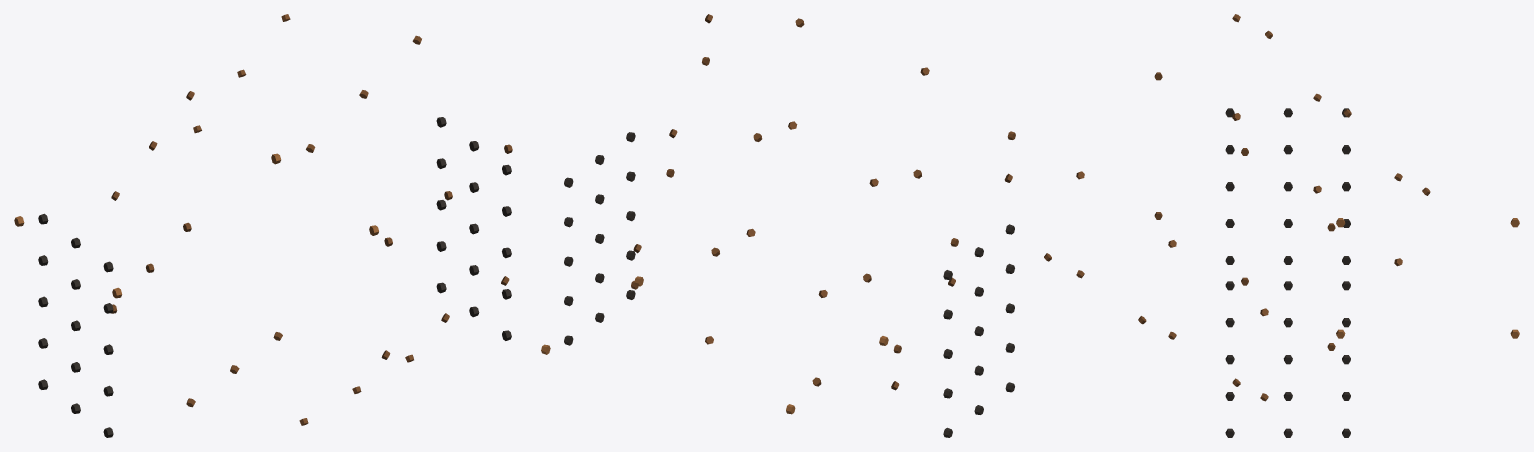
Rendered from cannon_detail1.glb.
The picture shows the model from 3 angles, left to right: view 1: azimuth 30°, elevation 25°; view 2: azimuth 150°, elevation 25°; view 3: azimuth 270°, elevation 25°; orthographic projection. The views are drawn at different scales.
Parts seen in each view (by area): view 1: cannon_detail1.001; view 2: cannon_detail1.001; view 3: cannon_detail1.001.
Boxes of the visible parts, x1,y1,x2,y2 form: cannon_detail1.001: (14, 14, 512, 437); cannon_detail1.001: (541, 14, 1015, 437); cannon_detail1.001: (1044, 14, 1519, 437).
Bounding box in the file's own units: 7.14 × 6.73 × 8.18.
